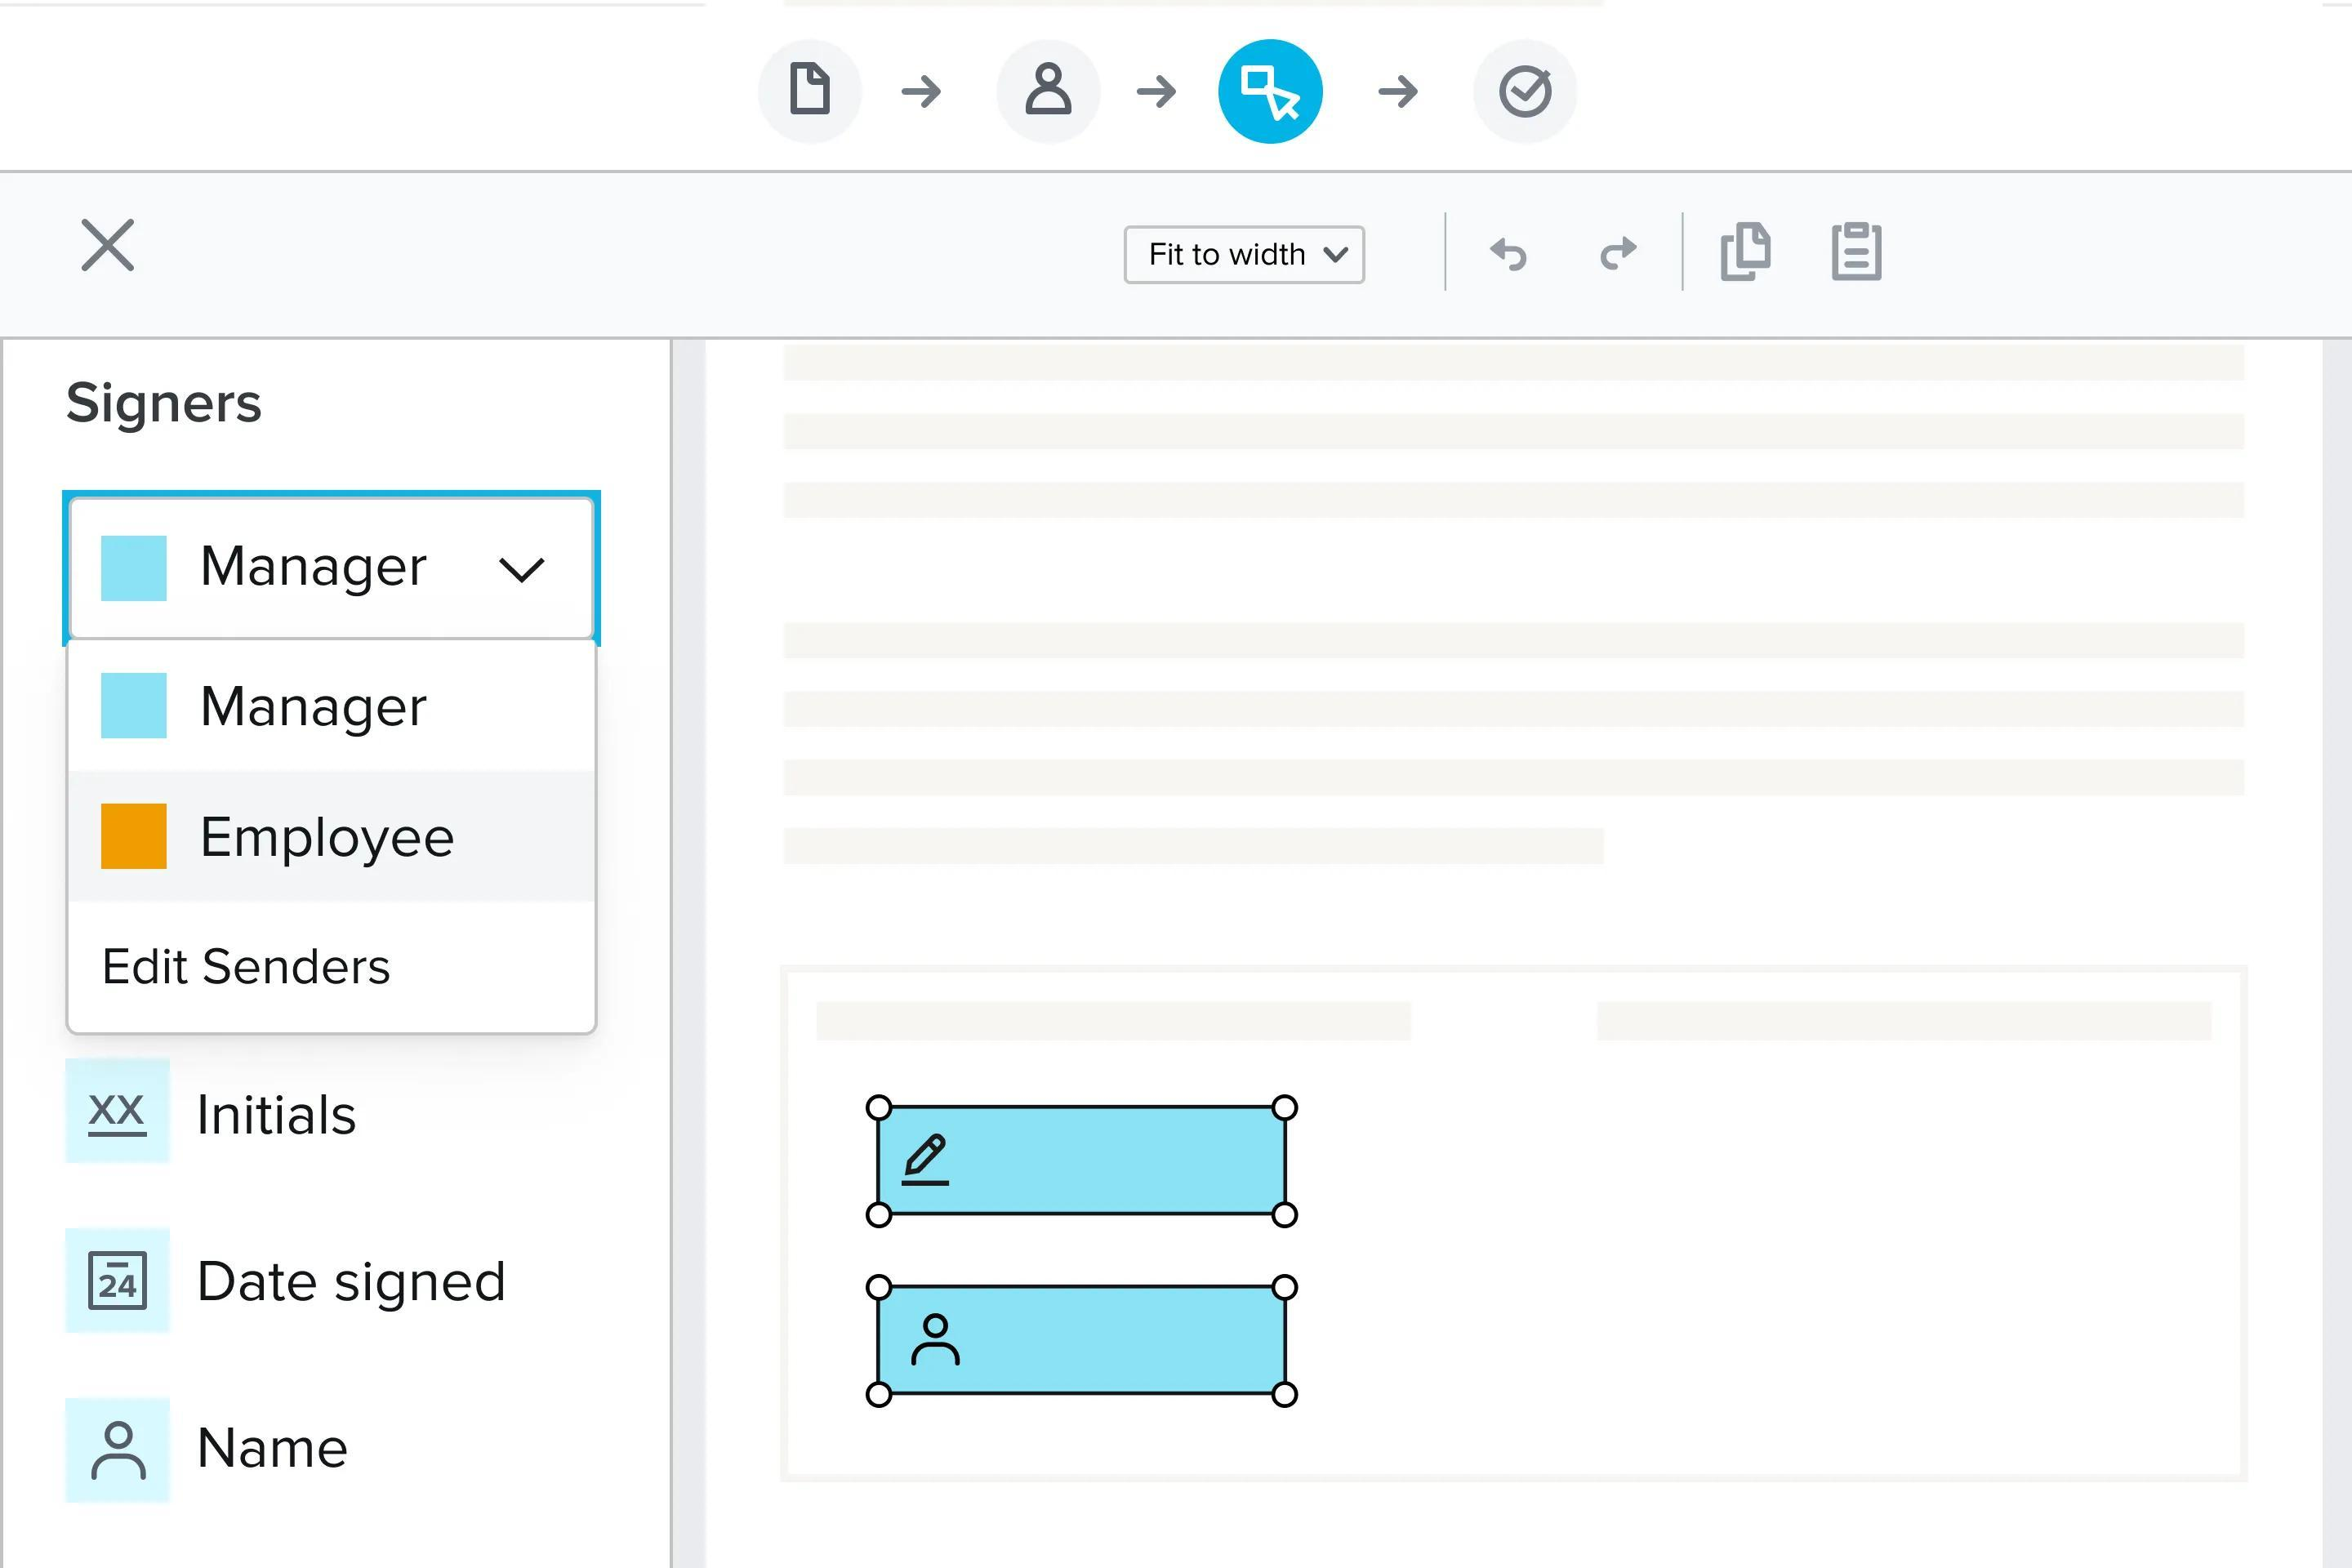checkbox: (1496, 63, 1556, 121)
dropdown: (66, 493, 597, 640), (1123, 227, 1367, 285)
icon: (73, 203, 159, 285), (86, 1410, 163, 1489), (1825, 212, 1893, 294), (1708, 213, 1781, 287), (1237, 61, 1311, 135), (86, 1246, 159, 1314), (906, 1297, 968, 1375), (901, 1129, 959, 1200), (1480, 233, 1543, 294), (89, 1090, 156, 1146), (784, 58, 840, 121), (1587, 229, 1647, 287), (1025, 56, 1073, 121), (1130, 70, 1188, 114), (1372, 66, 1421, 115), (896, 68, 945, 115)
